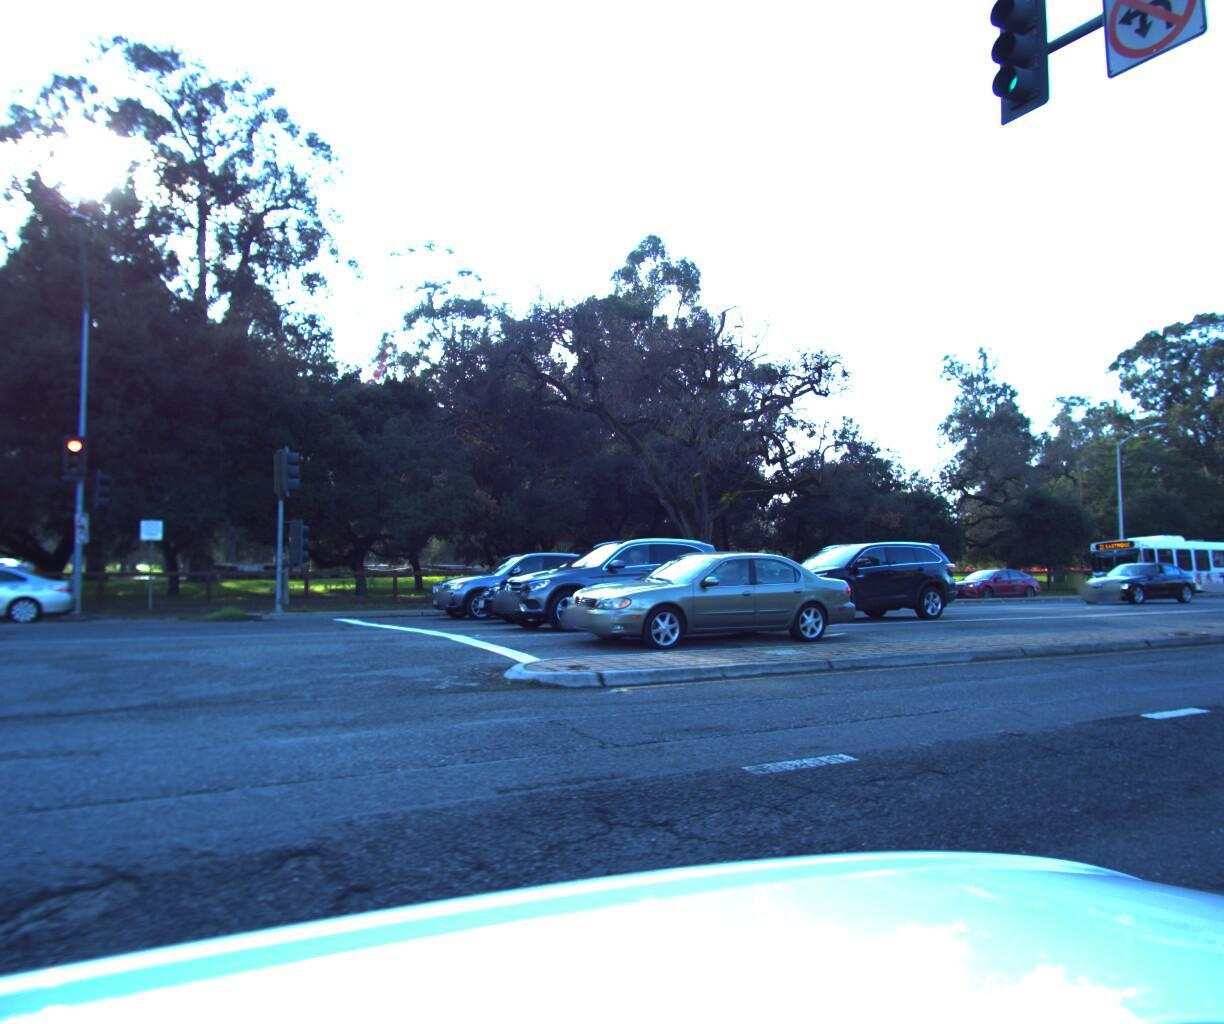bus: (1067, 525, 1224, 589)
car: (545, 545, 871, 656), (488, 531, 748, 636), (739, 537, 969, 625), (463, 553, 688, 623), (421, 548, 618, 623), (1074, 556, 1200, 602), (0, 562, 76, 634), (938, 566, 1042, 597)
